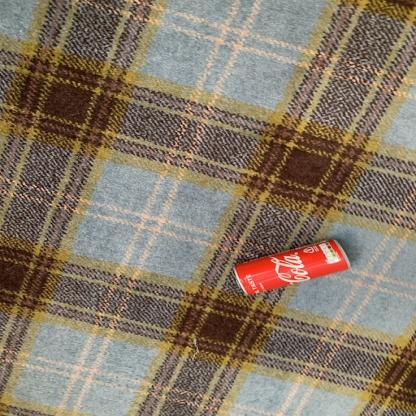trash: (228, 235, 352, 299)
